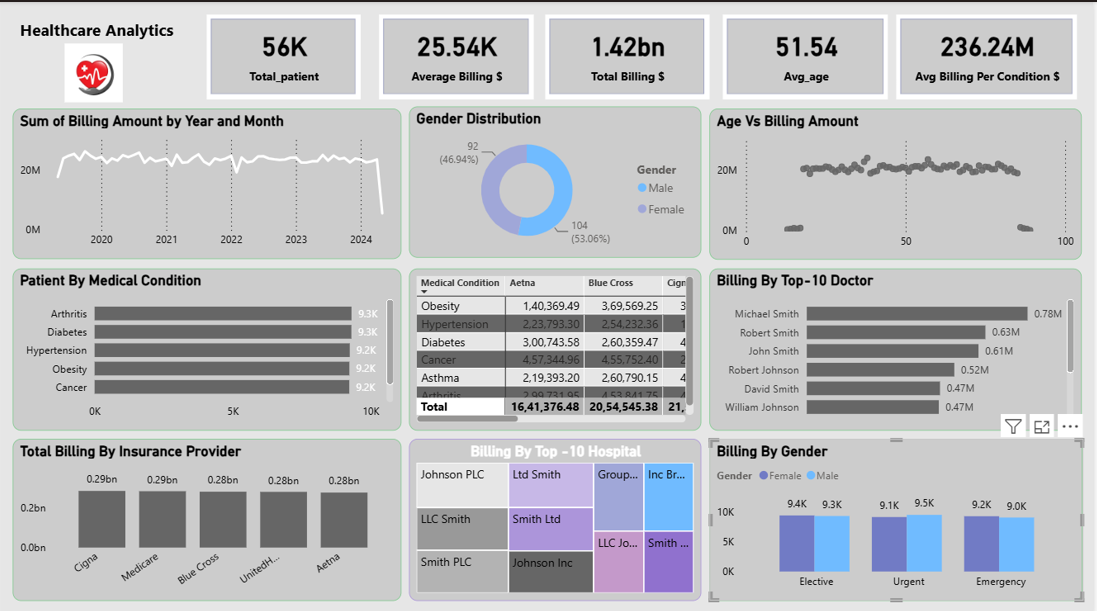

The dashboard page shown, as its layout file describes it:
{"tool":"powerbi","page":{"name":"Page 1","canvas":[1280,720],"ordinal":0},"visuals":[{"type":"cardVisual","fields":{"Data":["healthcare_dataset.Avg_billing_per_condition"]},"box":[1036,26.1,211.3,98.8],"z":1000},{"type":"cardVisual","fields":{"Data":["healthcare_dataset.Total_patient"]},"box":[220.4,26.1,193.5,94.7],"z":2000},{"type":"cardVisual","fields":{"Data":["healthcare_dataset.Avg_billing"]},"box":[424.3,26.1,193.5,94.7],"z":3000},{"type":"cardVisual","fields":{"Data":["healthcare_dataset.total_billing"]},"box":[628.2,26.1,193.5,94.7],"z":4000},{"type":"cardVisual","fields":{"Data":["healthcare_dataset.Avg_age"]},"box":[832.1,26.1,193.5,94.7],"z":5000},{"type":"lineChart","fields":{"Y":["Sum(healthcare_dataset.Billing Amount)"],"Category":["healthcare_dataset.Date of Admission.Variation.Date Hierarchy.Year","healthcare_dataset.Date of Admission.Variation.Date Hierarchy.Month"]},"box":[16.5,124.9,454.2,175.6],"z":6000},{"type":"clusteredBarChart","title":"Patient By Medical Condition","fields":{"Category":["healthcare_dataset.Medical Condition"],"Y":["CountNonNull(healthcare_dataset.Name)"]},"box":[16.5,312.9,454.2,189.4],"z":7000},{"type":"clusteredColumnChart","title":"Total Billing By Insurance Provider","fields":{"Category":["healthcare_dataset.Insurance Provider"],"Y":["Sum(healthcare_dataset.Billing Amount)"]},"box":[16.5,511.8,454.2,189.4],"z":8000},{"type":"clusteredBarChart","title":"Total Billing By Doctor- Top-10","fields":{"Category":["healthcare_dataset.Doctor"],"Y":["Sum(healthcare_dataset.Billing Amount)"]},"box":[831.6,312.9,435,189.4],"z":9000},{"type":"clusteredColumnChart","title":"Total Billing By Insurance Provider","fields":{"Category":["healthcare_dataset.Admission Type"],"Y":["CountNonNull(healthcare_dataset.Name)"],"Series":["healthcare_dataset.Gender"]},"box":[831.6,511.8,436.4,189.4],"z":10000},{"type":"donutChart","title":"Gender Distribution","fields":{"Category":["healthcare_dataset.Gender"],"Y":["CountNonNull(healthcare_dataset.Name)"]},"box":[480.3,123.5,341.7,177],"z":11000},{"type":"scatterChart","title":"Age Vs Billing Amount","fields":{"X":["healthcare_dataset.Age"],"Y":["Sum(healthcare_dataset.Billing Amount)"]},"box":[831.6,124.9,435,177],"z":12000},{"type":"treemap","title":"Biling By Hospital Top -10","fields":{"Values":["Sum(healthcare_dataset.Billing Amount)"],"Group":["healthcare_dataset.Hospital"]},"box":[480.3,511.8,341.7,189.4],"z":13000},{"type":"pivotTable","title":"Biling By Hospital Top -10","fields":{"Rows":["healthcare_dataset.Medical Condition"],"Columns":["healthcare_dataset.Insurance Provider"],"Values":["Sum(healthcare_dataset.Billing Amount)"]},"box":[480.3,312.9,341.7,189.4],"z":14000},{"type":"image","box":[0,57.6,204.5,67.2],"z":14001},{"type":"textbox","box":[0,15.1,220.9,59],"z":14002}]}

Visuals, with their boxes in screenshot pixels (x1, y1, x2, y2), scaled from the page's 1280x720 canvas onto the 1097x611 screenshot:
cardVisual - healthcare_dataset.Avg_billing_per_condition: x1=888, y1=22, x2=1069, y2=106
cardVisual - healthcare_dataset.Total_patient: x1=189, y1=22, x2=355, y2=103
cardVisual - healthcare_dataset.Avg_billing: x1=364, y1=22, x2=529, y2=103
cardVisual - healthcare_dataset.total_billing: x1=538, y1=22, x2=704, y2=103
cardVisual - healthcare_dataset.Avg_age: x1=713, y1=22, x2=879, y2=103
lineChart - Sum(healthcare_dataset.Billing Amount) x healthcare_dataset.Date of Admission.Variation.Date Hierarchy.Year: x1=14, y1=106, x2=403, y2=255
"Patient By Medical Condition" clusteredBarChart: x1=14, y1=266, x2=403, y2=426
"Total Billing By Insurance Provider" clusteredColumnChart: x1=14, y1=434, x2=403, y2=595
"Total Billing By Doctor- Top-10" clusteredBarChart: x1=713, y1=266, x2=1086, y2=426
"Total Billing By Insurance Provider" clusteredColumnChart: x1=713, y1=434, x2=1087, y2=595
"Gender Distribution" donutChart: x1=412, y1=105, x2=704, y2=255
"Age Vs Billing Amount" scatterChart: x1=713, y1=106, x2=1086, y2=256
"Biling By Hospital Top -10" treemap: x1=412, y1=434, x2=704, y2=595
"Biling By Hospital Top -10" pivotTable: x1=412, y1=266, x2=704, y2=426
image: x1=0, y1=49, x2=175, y2=106
textbox: x1=0, y1=13, x2=189, y2=63
